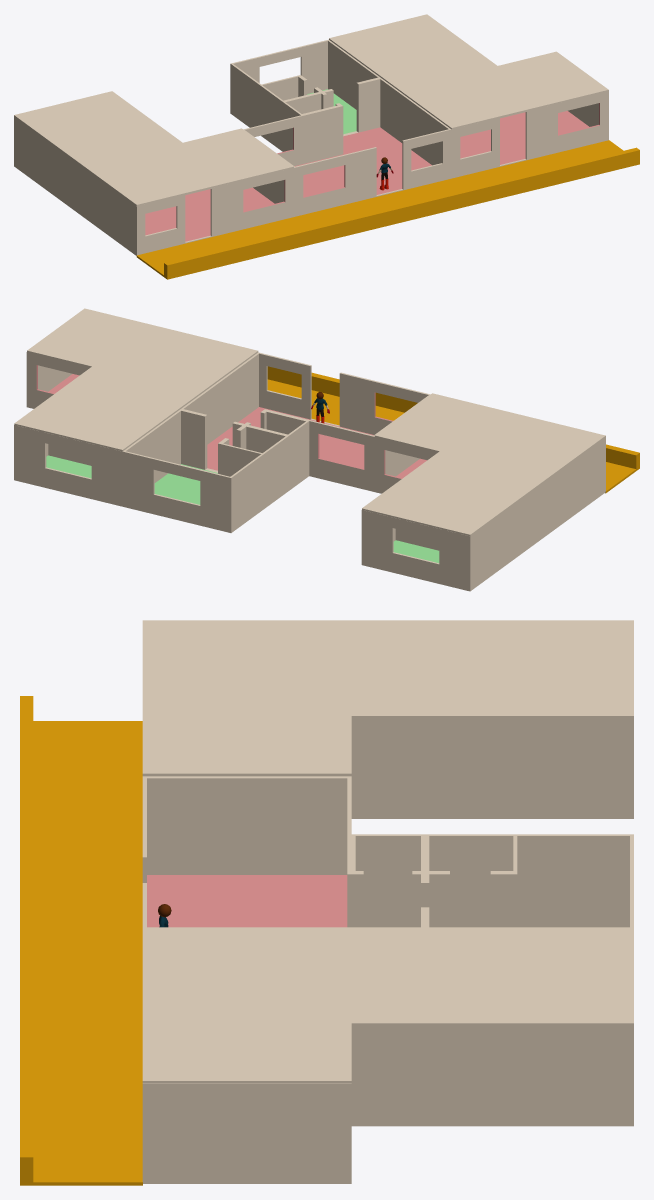
Rendered from MP_HDBGameLevel_Sliced.fbx.
3 renders of one model, top to bottom at view 1: azimuth 30°, elevation 25°; view 2: azimuth 150°, elevation 25°; view 3: azimuth 270°, elevation 25°, orthographic. The views are drawn at different scales.
Visible parts, largest first — view 1: Left_NeighbourFlat, Right_NeighbourFlat, Player_Flat, Cube.006, Slice_1, Slice_2, Slice_3, Slice_4; view 2: Left_NeighbourFlat, Right_NeighbourFlat, Player_Flat, Cube.006, Slice_1, Slice_3, Slice_4, Slice_2; view 3: Right_NeighbourFlat, Left_NeighbourFlat, Cube.006, Player_Flat, Slice_3, Slice_4, Slice_2.
Boxes of the visible parts, x1,y1,x2,y2 form: Left_NeighbourFlat: (14,91,294,255); Right_NeighbourFlat: (329,14,608,178); Player_Flat: (230,39,451,216); Cube.006: (136,140,639,279); Slice_1: (295,129,449,191); Slice_2: (302,103,343,139); Slice_3: (284,87,333,113); Slice_4: (261,75,307,100); Left_NeighbourFlat: (361,393,605,591); Right_NeighbourFlat: (14,308,258,506); Player_Flat: (122,352,430,532); Cube.006: (267,366,639,493); Slice_1: (259,353,429,408); Slice_3: (232,421,287,452); Slice_4: (218,438,262,473); Slice_2: (260,409,307,434); Right_NeighbourFlat: (142,927,633,1183); Left_NeighbourFlat: (142,620,633,818); Cube.006: (20,696,142,1185); Player_Flat: (142,776,633,927); Slice_3: (412,836,449,922); Slice_4: (490,836,517,922); Slice_2: (347,836,363,922).
Bounding box in the file's own units: 1981 × 209 × 1115.
